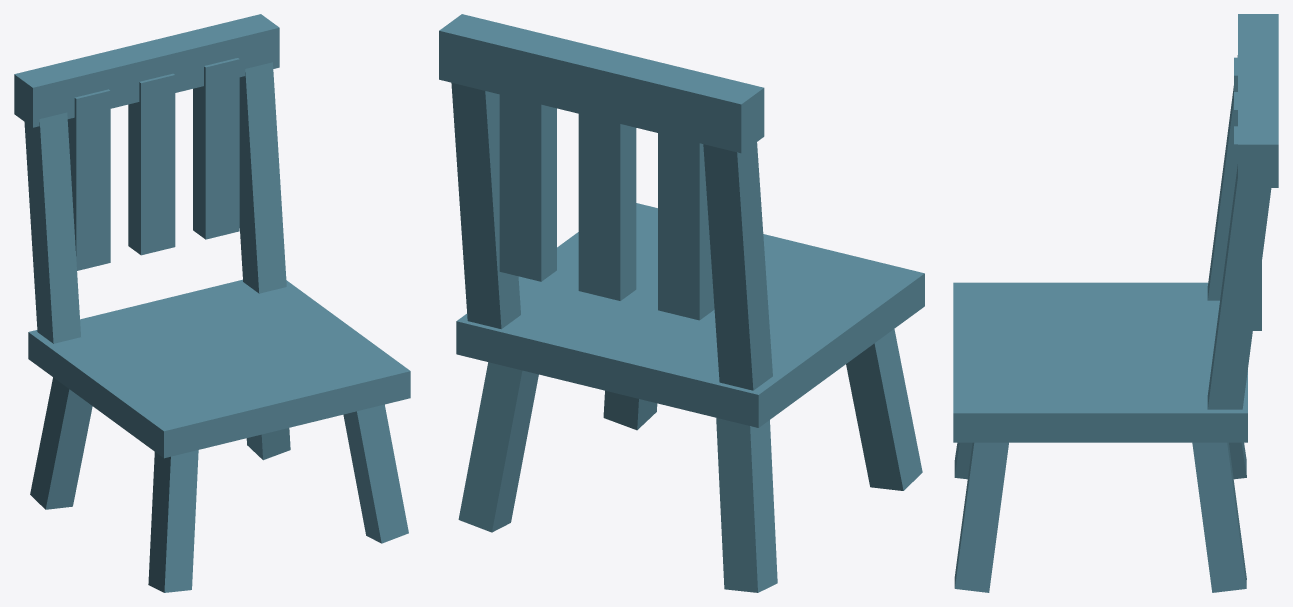
Rendered from PlasticChairLow.glb.
The picture shows the model from 3 angles, left to right: view 1: azimuth 30°, elevation 25°; view 2: azimuth 150°, elevation 25°; view 3: azimuth 270°, elevation 25°; orthographic projection. The views are drawn at different scales.
Parts seen in each view (by area): view 1: ST_PlasticChairLow_ST_plastic_blue.001; view 2: ST_PlasticChairLow_ST_plastic_blue.001; view 3: ST_PlasticChairLow_ST_plastic_blue.001.
Part boxes in pixels (bbox=[...]): ST_PlasticChairLow_ST_plastic_blue.001: bbox=[14, 14, 410, 592]; ST_PlasticChairLow_ST_plastic_blue.001: bbox=[439, 14, 924, 592]; ST_PlasticChairLow_ST_plastic_blue.001: bbox=[953, 14, 1278, 592].
Bounding box in the file's own units: 0.42 × 0.6784 × 0.4415.
